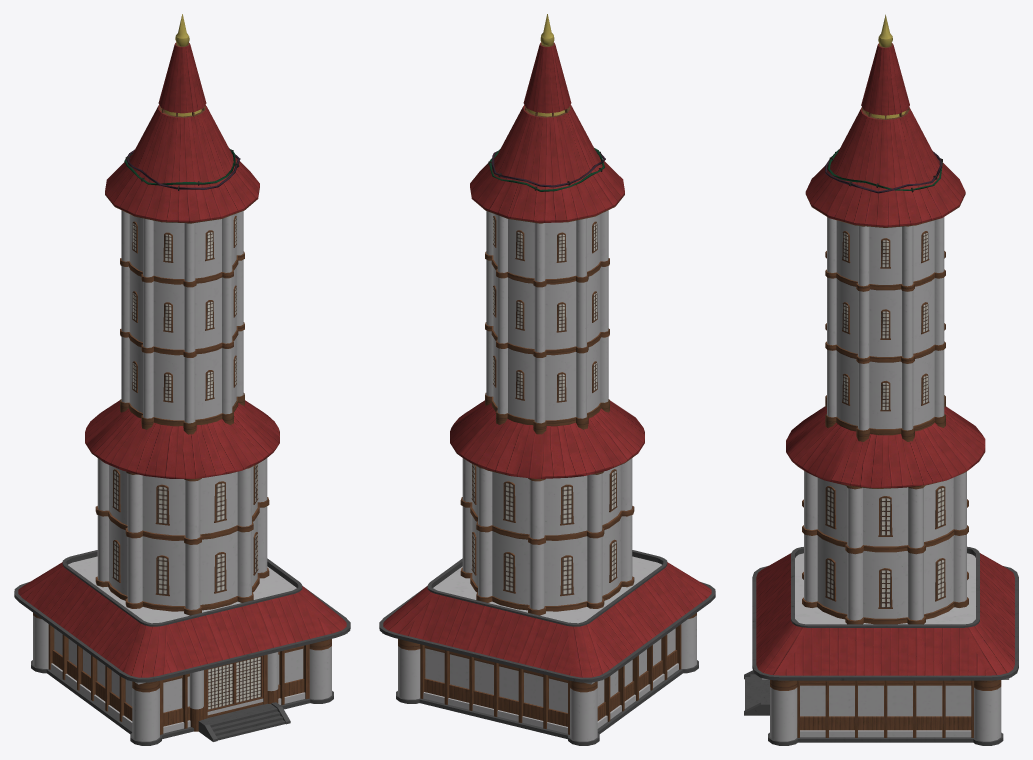
Rendered from SM_ENV_LKNVLD_CommonBuilding_TowerB.FBX.
The picture shows the model from 3 angles, left to right: view 1: azimuth 30°, elevation 25°; view 2: azimuth 150°, elevation 25°; view 3: azimuth 270°, elevation 25°; orthographic projection. The views are drawn at different scales.
Visible parts, largest first — view 1: SM_ENV_LKNVLD_CommonBuilding_TowerB; view 2: SM_ENV_LKNVLD_CommonBuilding_TowerB; view 3: SM_ENV_LKNVLD_CommonBuilding_TowerB.
Part boxes in pixels (x1,y1,x2,y2): SM_ENV_LKNVLD_CommonBuilding_TowerB: (14,14,350,745); SM_ENV_LKNVLD_CommonBuilding_TowerB: (379,14,715,745); SM_ENV_LKNVLD_CommonBuilding_TowerB: (744,14,1018,745).
Size of the model in its own units: 2010 by 5673 by 2072.
